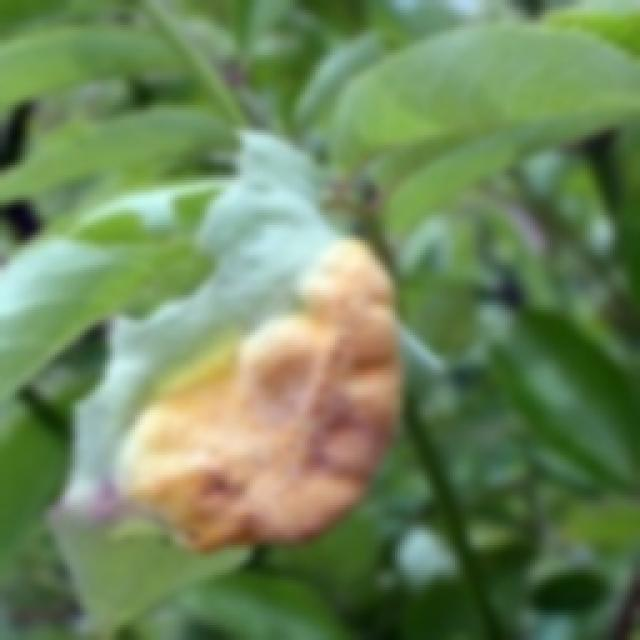Elderberry_rust: (110, 233, 405, 555)
